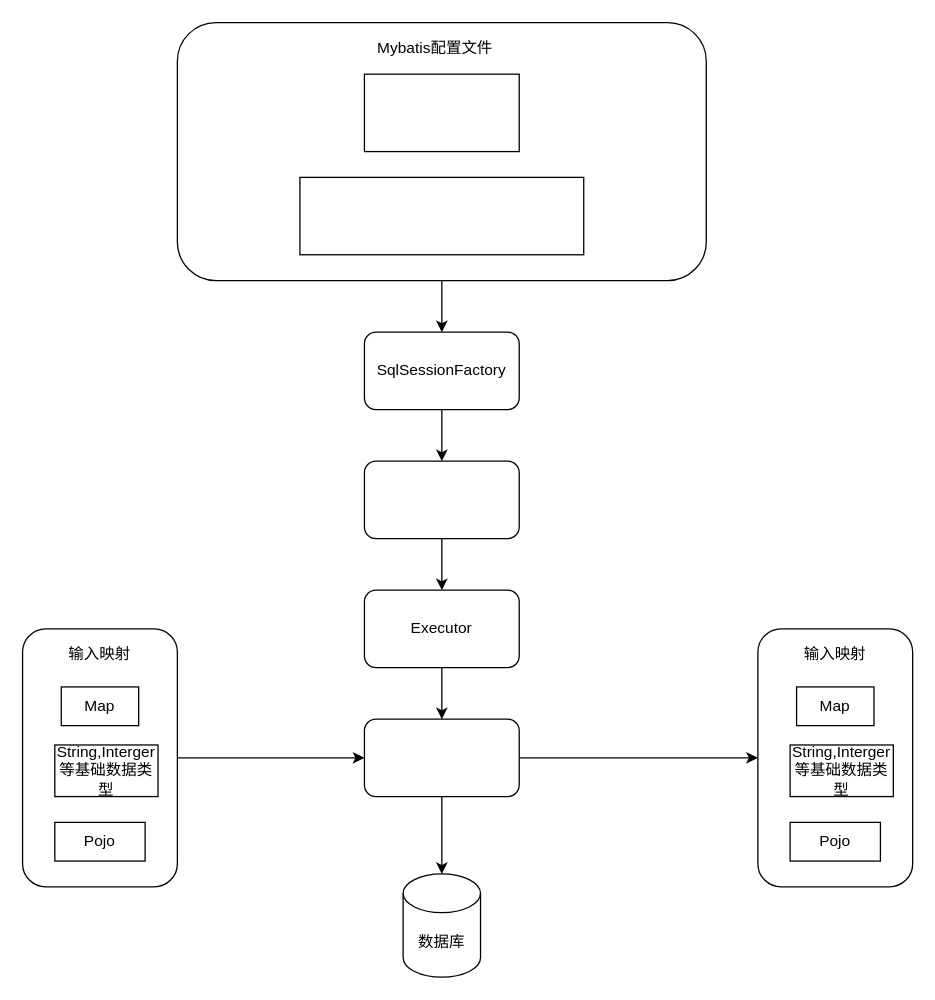
The diagram is 935 pixels wide and 1000 high, and some of its shapes have lost their labels. Each missing label, with the box of its shape:
com/nari/dao/IUserDao.xml: (299, 176, 584, 255)
MappedStatement: (363, 718, 519, 797)
SqlMapConfig.xml: (363, 73, 519, 152)
SqlSession: (363, 460, 519, 539)
